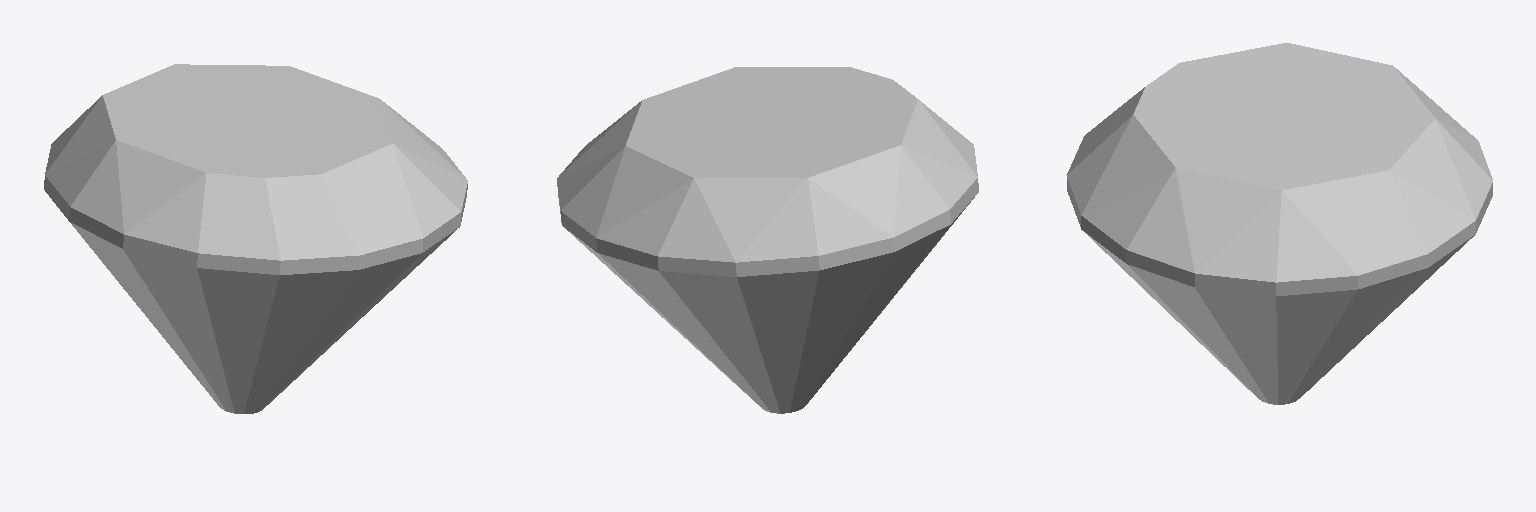
The model's file is diamond.obj.
3 renders of one model, left to right at view 1: azimuth 30°, elevation 25°; view 2: azimuth 150°, elevation 25°; view 3: azimuth 270°, elevation 25°, orthographic.
Parts seen in each view (by area): view 1: diamond; view 2: diamond; view 3: diamond.
Boxes of the visible parts, x1=… form: diamond: x1=44, y1=64, x2=467, y2=413; diamond: x1=557, y1=67, x2=978, y2=413; diamond: x1=1067, y1=43, x2=1492, y2=404.
Size of the model in its own units: 1.79 by 1.36 by 1.79.